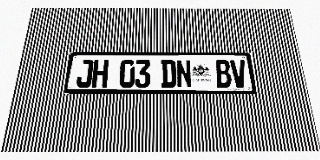0: (119, 60, 135, 88)
3: (135, 60, 150, 88)
B: (215, 60, 232, 88)
D: (161, 60, 176, 88)
H: (91, 60, 109, 88)
J: (75, 60, 94, 88)
N: (176, 60, 192, 88)
V: (230, 60, 248, 88)
